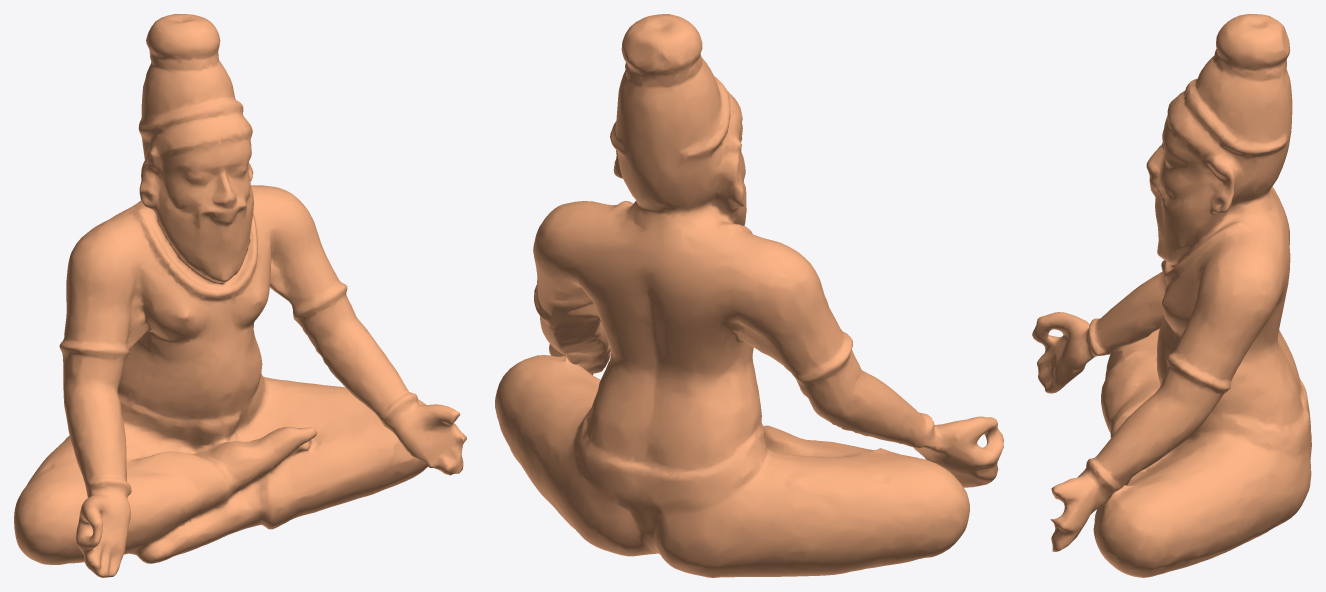
File: Sidhargal_&_Munivargal_Karuvurarar_01.glb
3 renders of one model, left to right at view 1: azimuth 30°, elevation 25°; view 2: azimuth 150°, elevation 25°; view 3: azimuth 270°, elevation 25°, orthographic. The views are drawn at different scales.
Visible parts, largest first — view 1: Sidhargal_&_Munivargal_Karuvurarar_01; view 2: Sidhargal_&_Munivargal_Karuvurarar_01; view 3: Sidhargal_&_Munivargal_Karuvurarar_01.
Boxes of the visible parts, left/top/right/bottom form: Sidhargal_&_Munivargal_Karuvurarar_01: left=14, top=14, right=466, bottom=577; Sidhargal_&_Munivargal_Karuvurarar_01: left=495, top=14, right=1003, bottom=577; Sidhargal_&_Munivargal_Karuvurarar_01: left=1032, top=14, right=1311, bottom=577.
Size of the model in its own units: 0.3372 by 0.37 by 0.1916.
